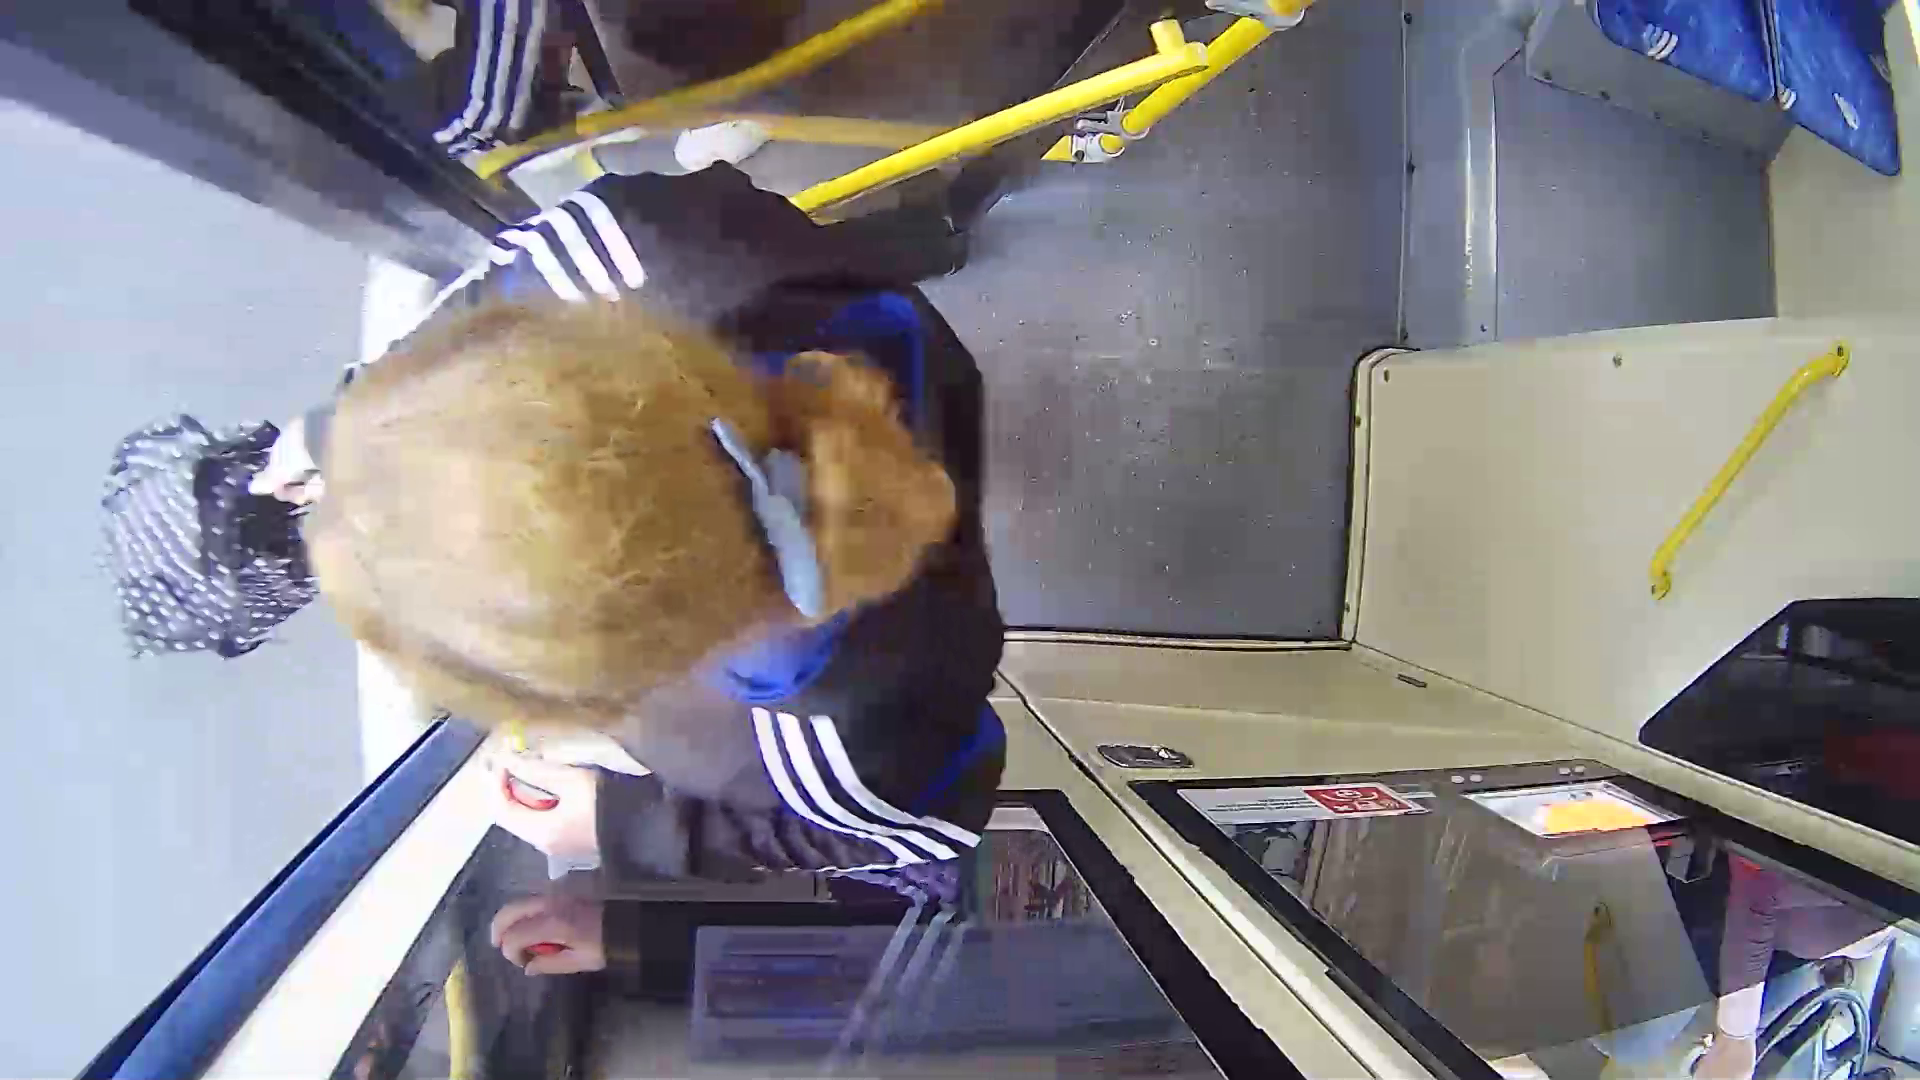person: (233, 145, 1134, 956)
